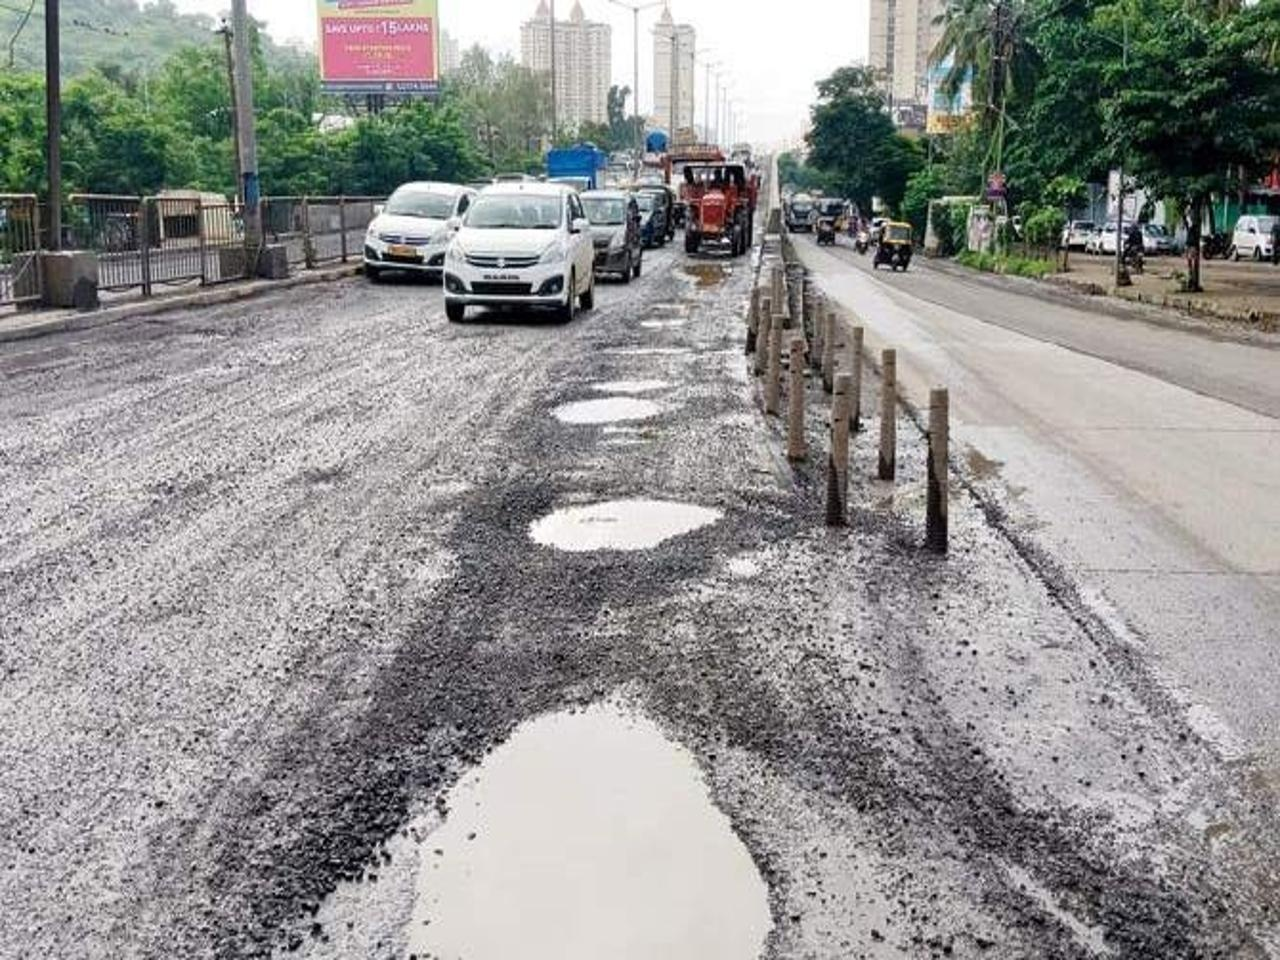pothole: (295, 619, 1008, 960), (531, 486, 733, 579), (537, 365, 710, 454), (585, 306, 739, 363)
